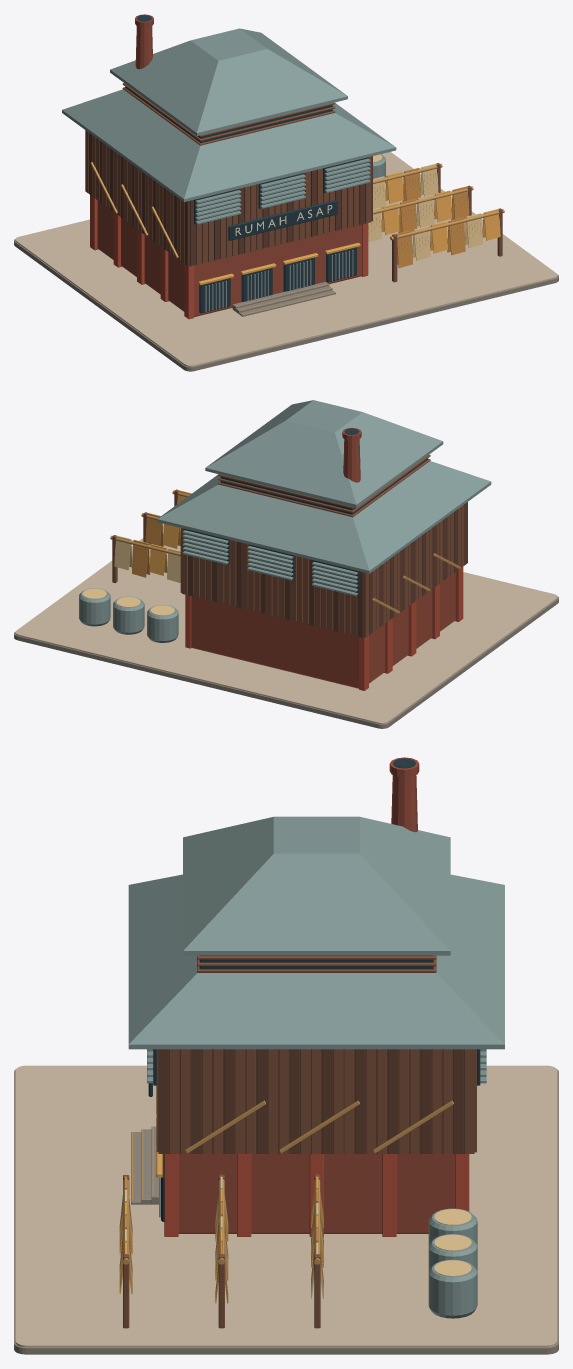
3 renders of one model, top to bottom at view 1: azimuth 30°, elevation 25°; view 2: azimuth 150°, elevation 25°; view 3: azimuth 270°, elevation 25°, orthographic. The views are drawn at different scales.
Visible parts, largest first — view 1: Vented Drying Loft, Laterite Yard, Brick Firebox, Latex Sheet Yard; view 2: Vented Drying Loft, Laterite Yard, Brick Firebox, Latex Sheet Yard; view 3: Vented Drying Loft, Laterite Yard, Brick Firebox, Latex Sheet Yard.
Boxes of the visible parts, x1,y1,x2,y2 form: Vented Drying Loft: [62, 14, 396, 266]; Laterite Yard: [14, 152, 558, 371]; Brick Firebox: [90, 195, 368, 319]; Latex Sheet Yard: [368, 154, 504, 282]; Vented Drying Loft: [157, 400, 491, 637]; Laterite Yard: [14, 523, 558, 728]; Brick Firebox: [185, 567, 463, 690]; Latex Sheet Yard: [79, 489, 191, 642]; Vented Drying Loft: [128, 757, 504, 1153]; Laterite Yard: [14, 1065, 558, 1354]; Brick Firebox: [131, 1086, 469, 1236]; Latex Sheet Yard: [119, 1174, 477, 1328].
Size of the model in its own units: 22 by 13.58 by 18.
